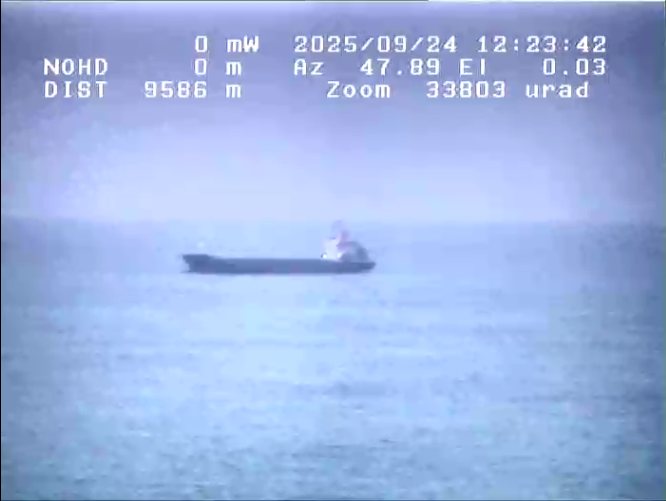TANKER: (172, 209, 386, 290)
